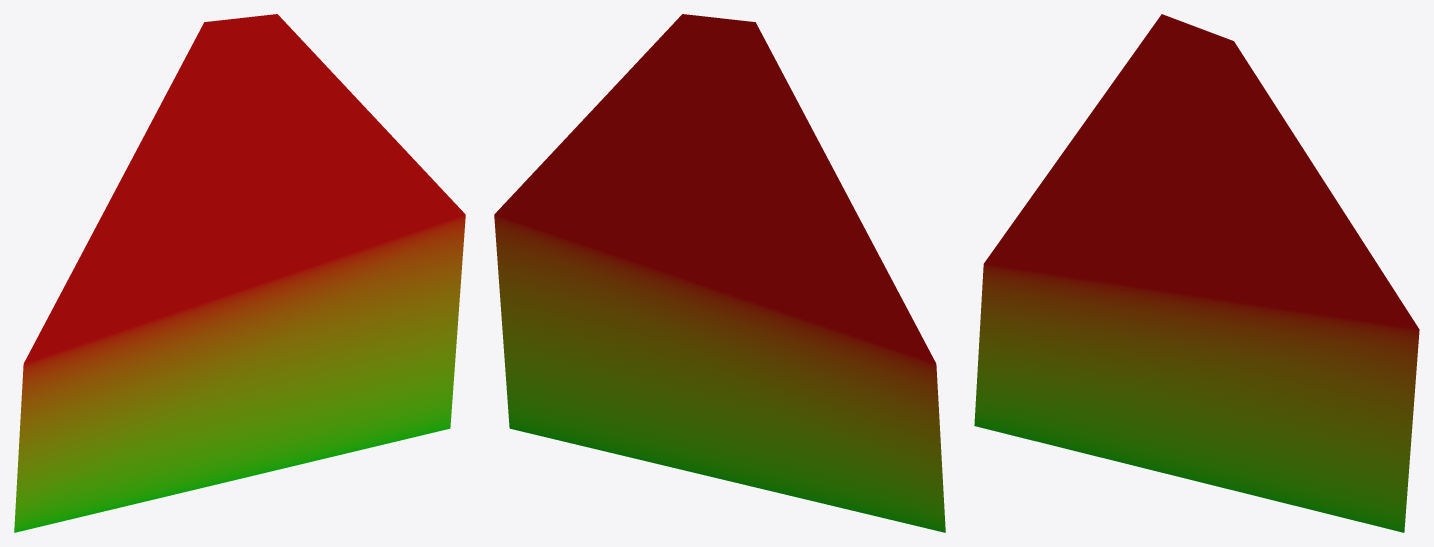
File: Var1_LOD4.fbx
3 renders of one model, left to right at view 1: azimuth 30°, elevation 25°; view 2: azimuth 150°, elevation 25°; view 3: azimuth 330°, elevation 25°, orthographic.
Visible parts, largest first — view 1: _44a8_Var1_LOD4; view 2: _44a8_Var1_LOD4; view 3: _44a8_Var1_LOD4.
Part boxes in pixels (bbox=[...]): _44a8_Var1_LOD4: bbox=[14, 14, 465, 532]; _44a8_Var1_LOD4: bbox=[494, 14, 945, 532]; _44a8_Var1_LOD4: bbox=[974, 14, 1419, 532].
Bounding box in the file's own units: 49.96 × 49.31 × 4.77e-07.
